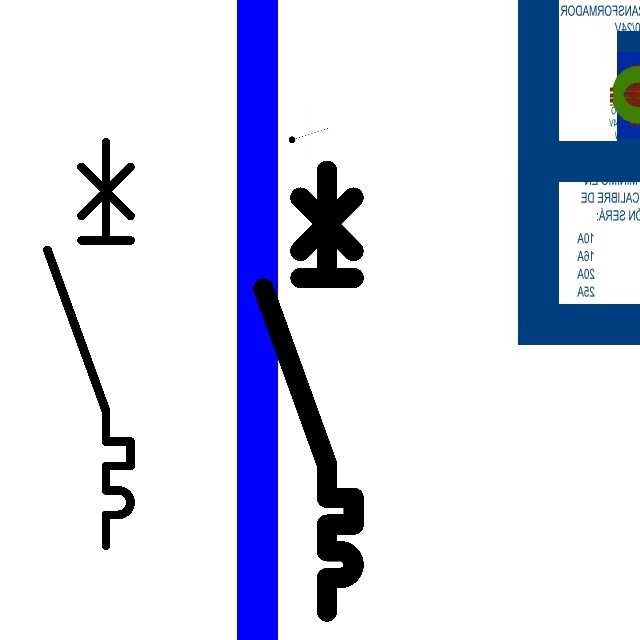interruptor_termomagnetico: (252, 159, 365, 623), (37, 132, 141, 556)
